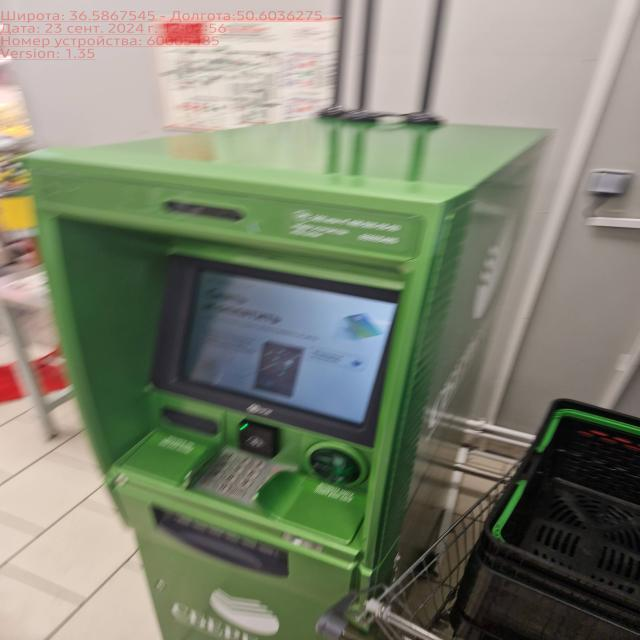bank: (23, 108, 550, 640)
